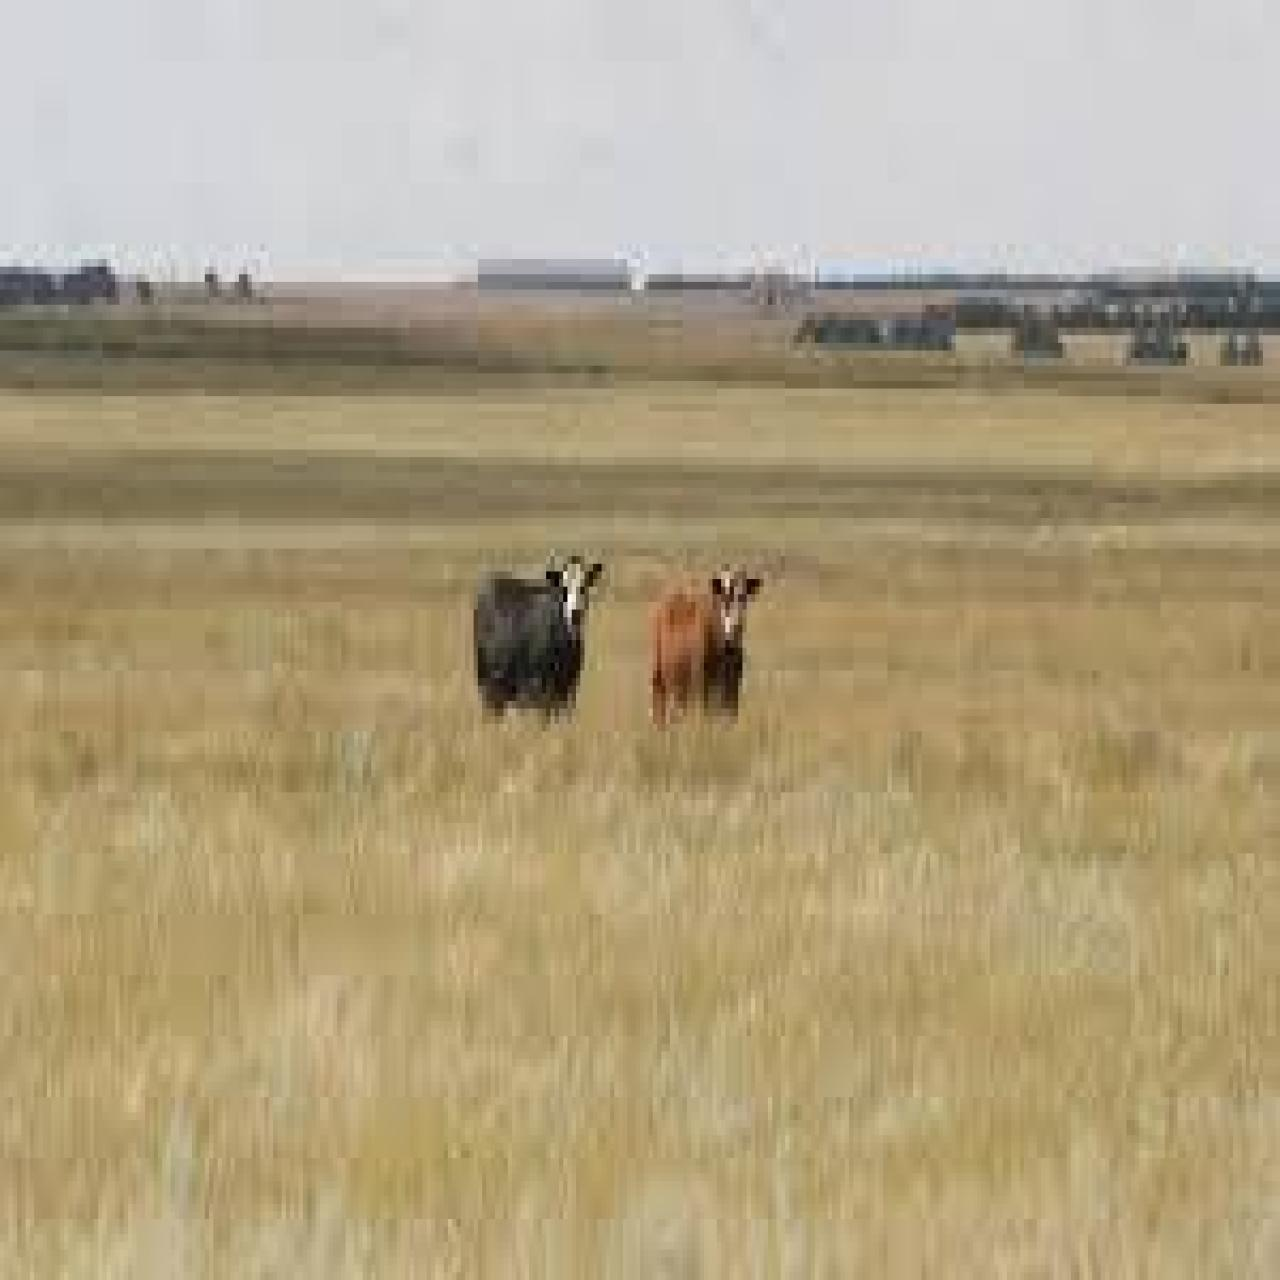cow: (471, 557, 595, 731), (653, 567, 768, 742)
